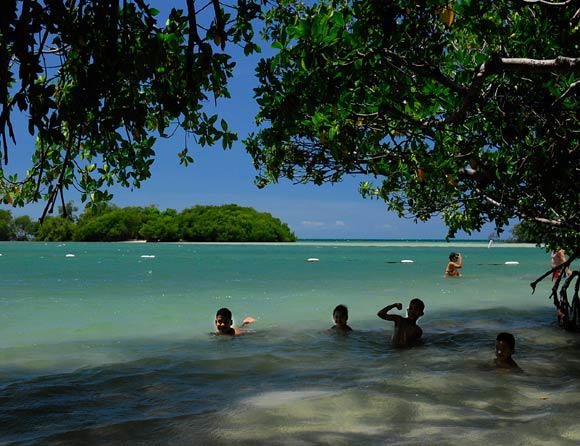human: (378, 292, 433, 358), (210, 304, 252, 337), (491, 328, 522, 370), (328, 300, 354, 332), (442, 252, 462, 276)
